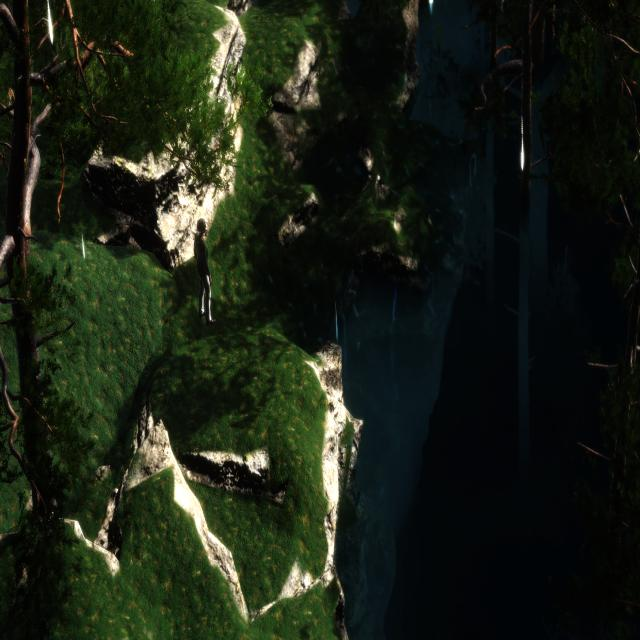Human: (190, 210, 220, 333)
